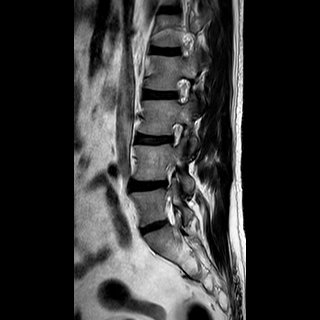RFS0: (169, 72, 196, 110), (163, 117, 189, 151)
